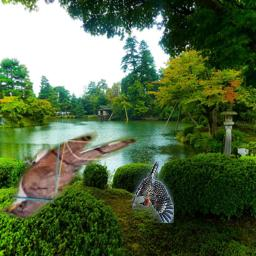Cuckoo: (0, 126, 138, 222)
Woodpecker: (132, 161, 174, 223)
